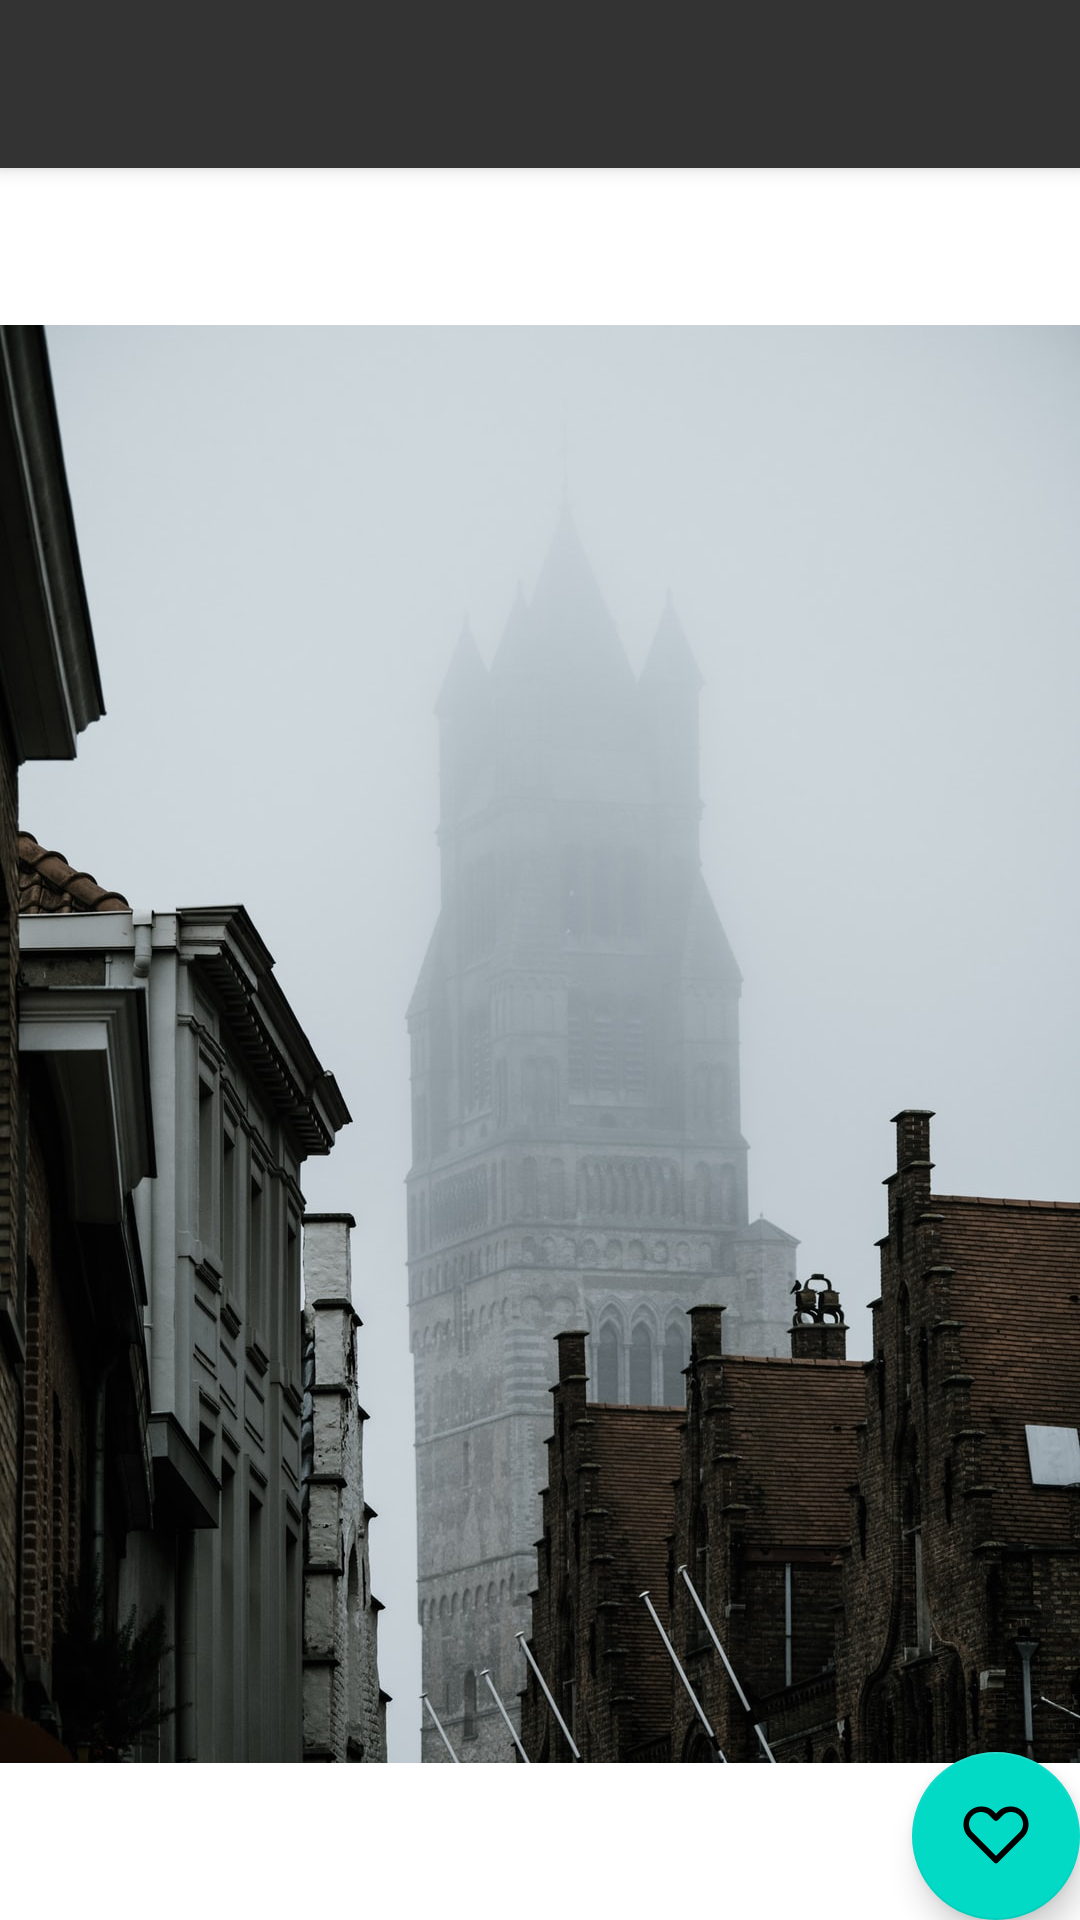

Point at icon controls on the screen. Image size 1080x1920, points as (x=x, y=y).
heart: (x=996, y=1836)
